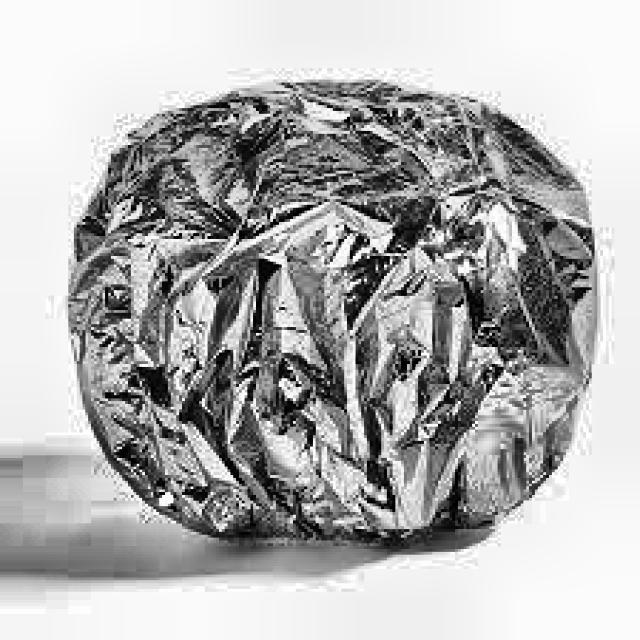Foil: (60, 68, 614, 558)
